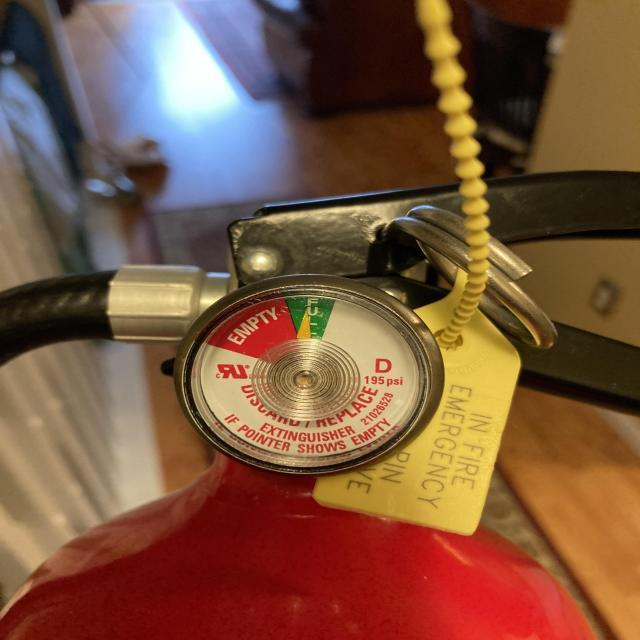pressure gauge: (175, 275, 443, 472)
